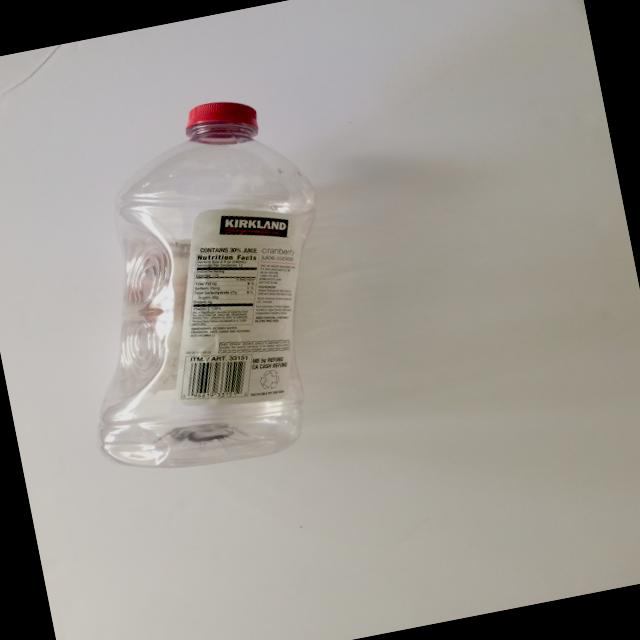Plastic: (0, 64, 389, 538)
